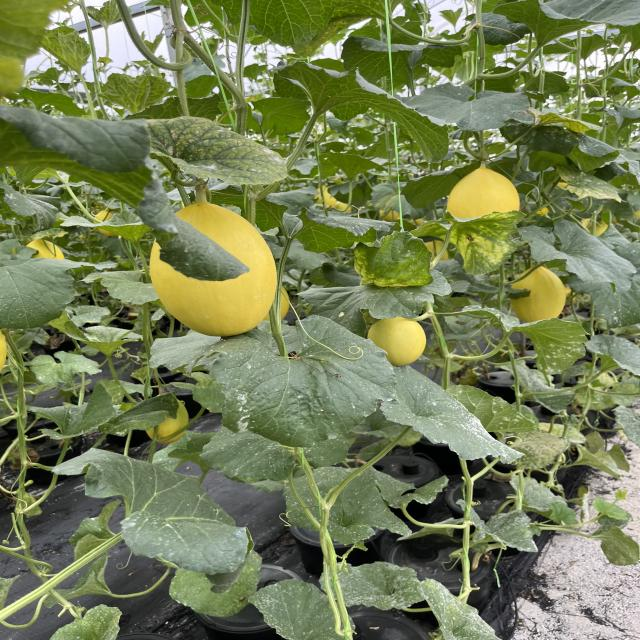CMV: (146, 115, 289, 188)
downy mildew: (49, 447, 261, 580), (411, 212, 522, 278), (242, 575, 349, 640), (415, 579, 500, 640), (338, 559, 428, 615), (355, 231, 435, 288), (49, 599, 128, 640)
healthy: (270, 62, 450, 162)
powdery mildew: (194, 325, 400, 442), (378, 364, 524, 466), (452, 303, 588, 375)
